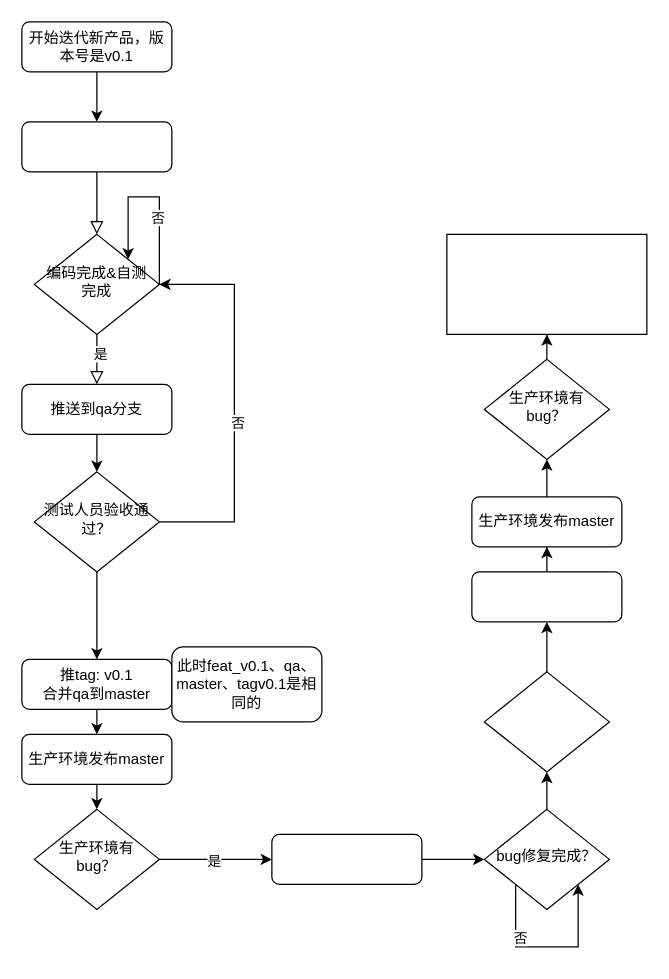
The diagram is 669 pixels wide and 979 high, and some of its shapes have lost their labels. The shapes that lost their labels are listed below. From the top down, each one's centre as x and y in pixels, then its label:
pixel 96 146: 创建feat_v0.1
pixel 546 283: 基于最新（tag v0.1.1）拉出新分支hotfix_at_v0.1.1, 测试人员验收后推到新tag v0.1.2，并合到master
pixel 546 596: 推tag: v0.1.1 合并hotfix_at_v0.1到master
pixel 546 721: 测试人员验收hotfix_at_v0.1分支，通过?
pixel 346 858: 基于最新（tag v0.1）拉出新分支hotfix_at_v0.1
